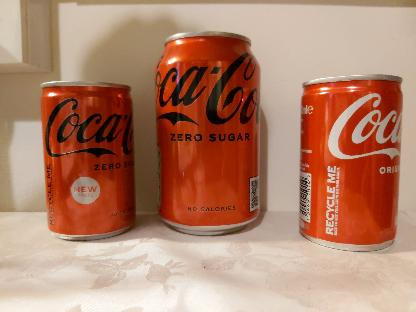Can: (154, 30, 262, 236), (298, 74, 404, 252), (40, 80, 138, 239)
